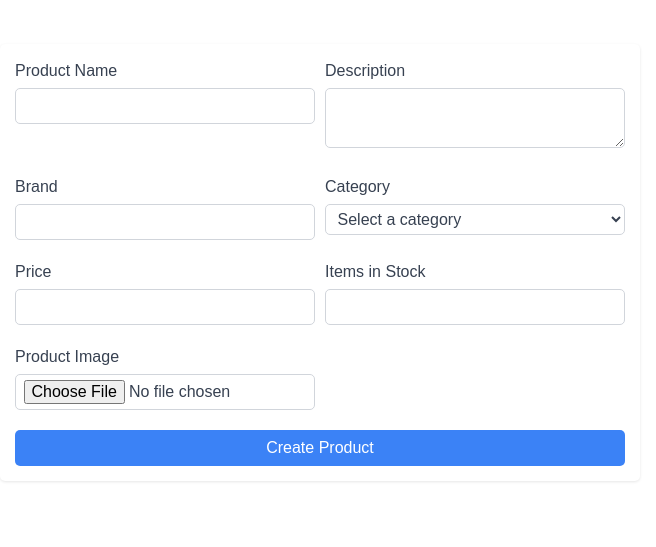
Test case: CreateProductForm › should show validation errors when submitting empty form
This screenshot has width=656, height=547.
Click the button "Create Product": [320, 448] box [15,430,625,466]
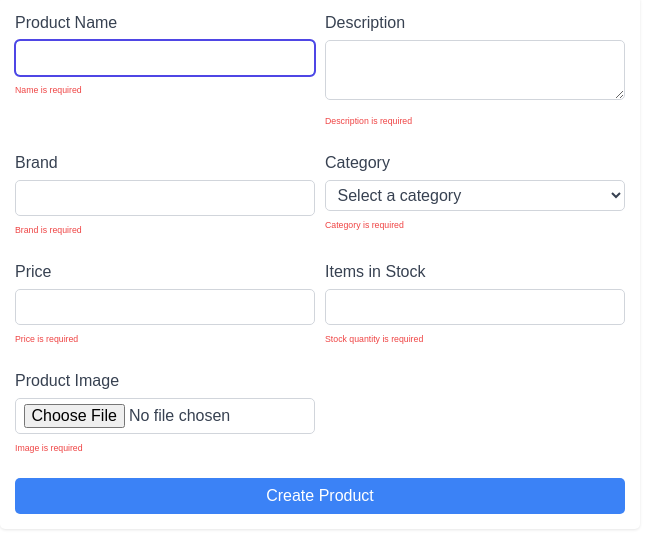
Check: the text "Name is required" is shown, box [15,84,82,94]
Check: the text "Description is required" is shown, box [325,116,412,126]
Check: the text "Brand is required" is shown, box [15,224,82,234]
